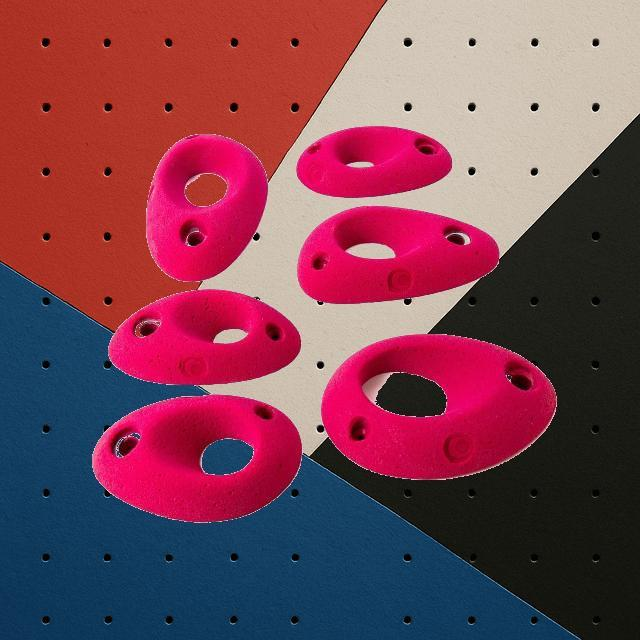Pocket: (320, 332, 558, 480), (90, 392, 302, 522), (296, 204, 500, 304), (106, 287, 300, 385), (144, 132, 268, 282), (295, 124, 453, 198)
